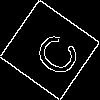C: (25, 24, 83, 81)
